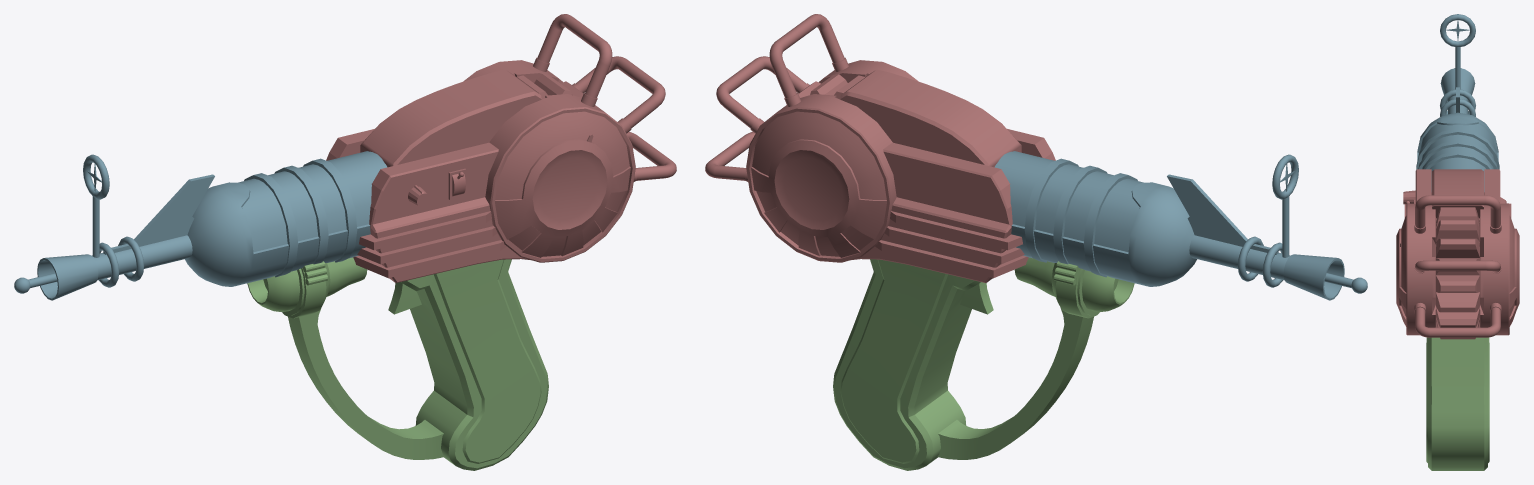
3 views of the same model, side by side, from view 1: azimuth 30°, elevation 25°; view 2: azimuth 150°, elevation 25°; view 3: azimuth 270°, elevation 25° (orthographic). The views are drawn at different scales.
Visible parts, largest first — view 1: centro, mango, punta; view 2: centro, mango, punta; view 3: centro, mango, punta.
Boxes of the visible parts, box(x1,y1,x2,y2) form: centro: box(326, 14, 676, 282); mango: box(247, 257, 548, 470); punta: box(14, 151, 387, 300); centro: box(705, 14, 1055, 282); mango: box(833, 257, 1134, 470); punta: box(994, 151, 1367, 300); centro: box(1396, 169, 1519, 339); mango: box(1426, 337, 1489, 470); punta: box(1416, 14, 1499, 191).
Size of the model in its own units: 8.81 by 5.24 by 1.86.
